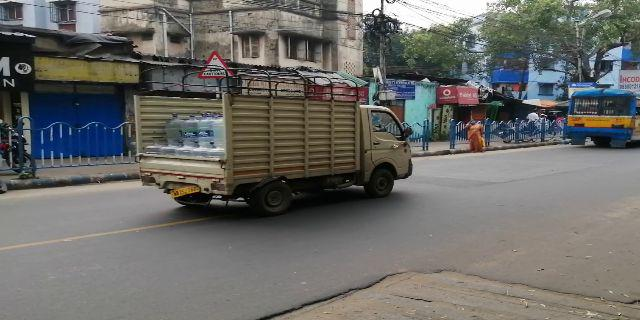Bus: (571, 86, 633, 139)
Minitruck: (128, 76, 420, 204)
